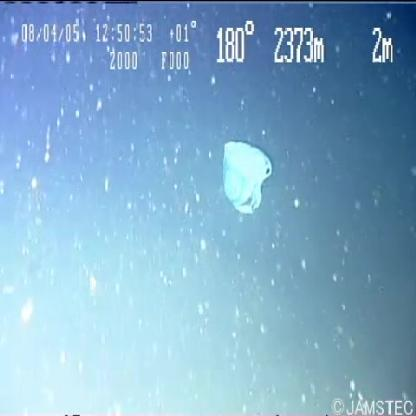Rác: (216, 129, 281, 215)
